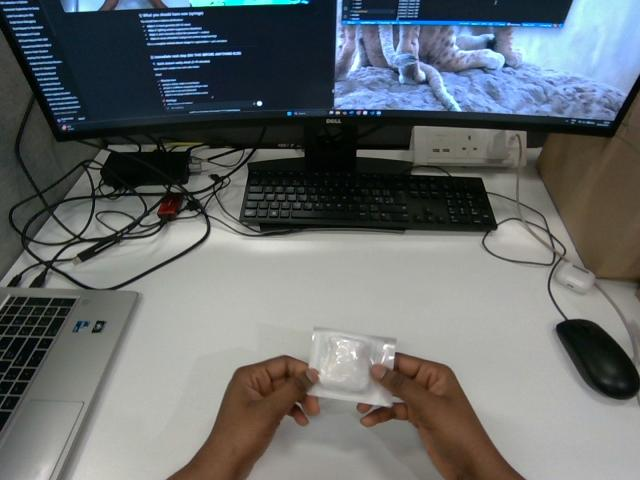gauze: (309, 328, 395, 405)
